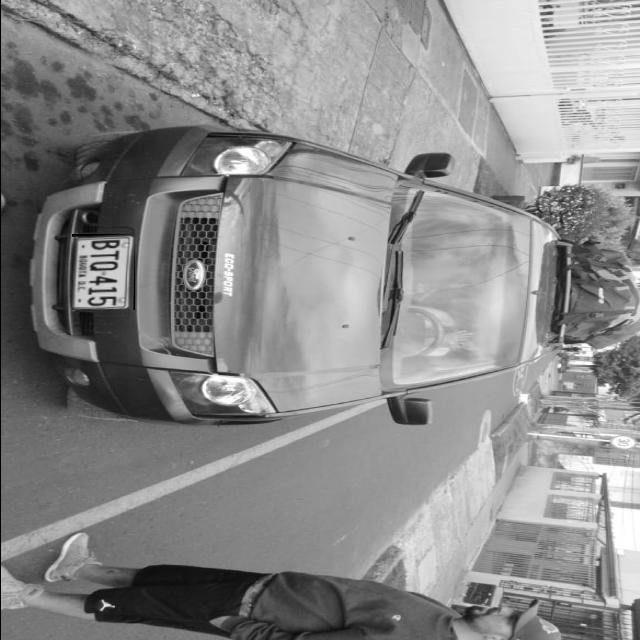plate: (71, 234, 134, 310)
